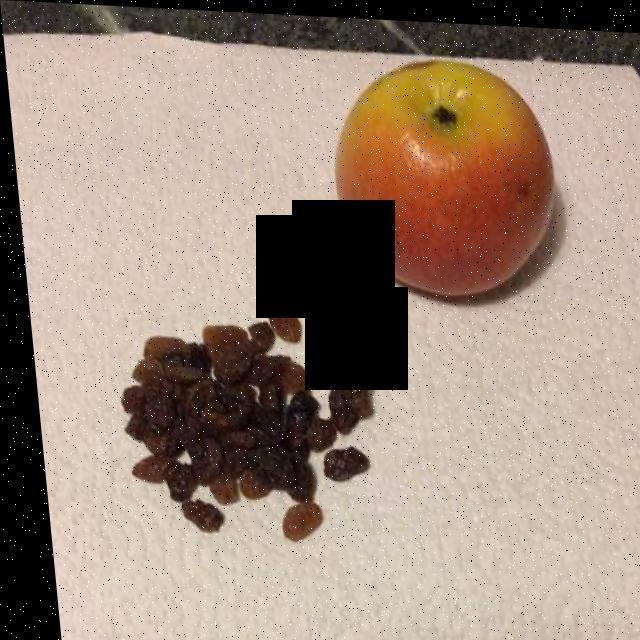apple: (331, 63, 548, 290)
raisins: (116, 301, 363, 538)
